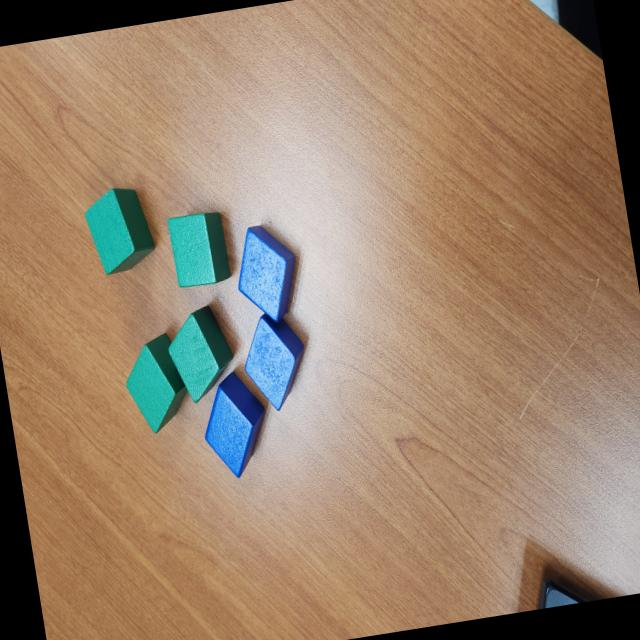blue: (196, 367, 276, 482), (228, 219, 306, 330), (236, 308, 314, 414)
green: (160, 302, 244, 407), (118, 331, 194, 438), (80, 181, 160, 277), (164, 210, 233, 290)
